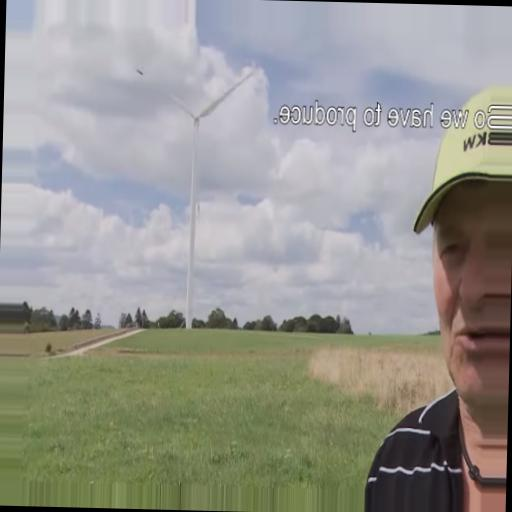wind turbine: (136, 64, 261, 327)
